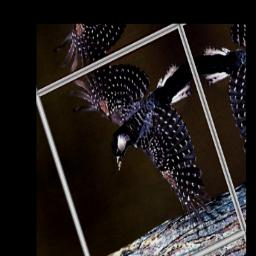Woodpecker: (68, 30, 234, 256)
